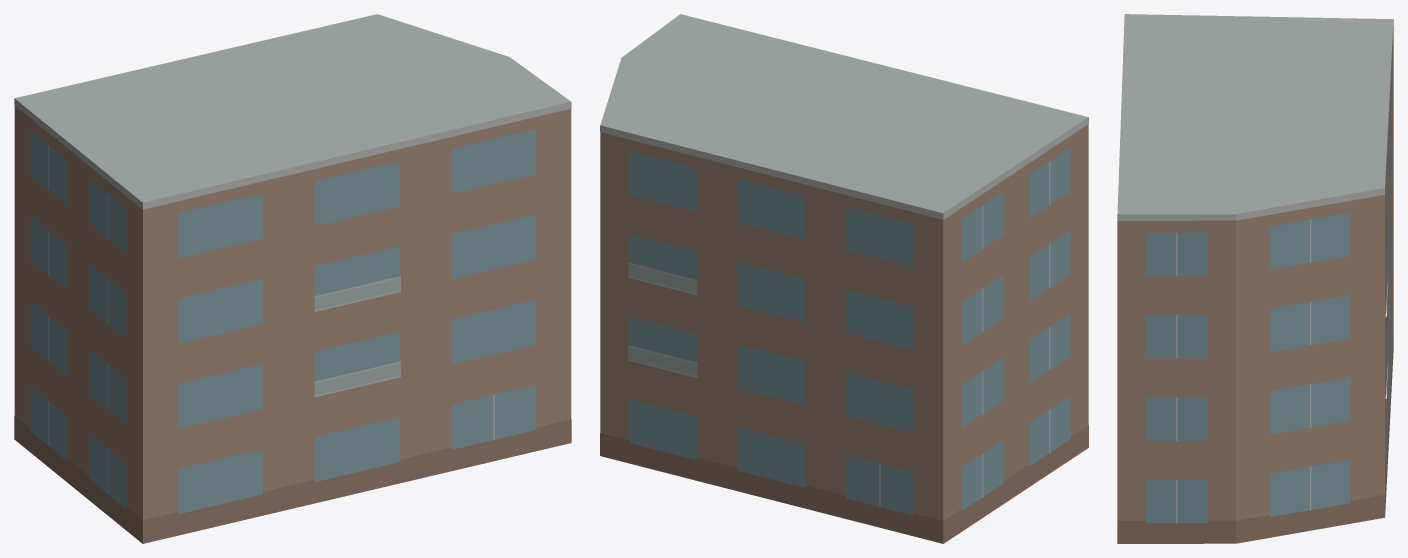
File: survey-upis-32605413.glb
3 renders of one model, left to right at view 1: azimuth 30°, elevation 25°; view 2: azimuth 150°, elevation 25°; view 3: azimuth 270°, elevation 25°, orthographic. The views are drawn at different scales.
Visible parts, largest first — view 1: survey-upis-32605413.tmp; view 2: survey-upis-32605413.tmp; view 3: survey-upis-32605413.tmp.
Boxes of the visible parts, <box> form: survey-upis-32605413.tmp: <box>14,14,571,543</box>; survey-upis-32605413.tmp: <box>600,14,1088,543</box>; survey-upis-32605413.tmp: <box>1117,14,1393,543</box>.
Size of the model in its own units: 15.85 by 12.15 by 9.24.
